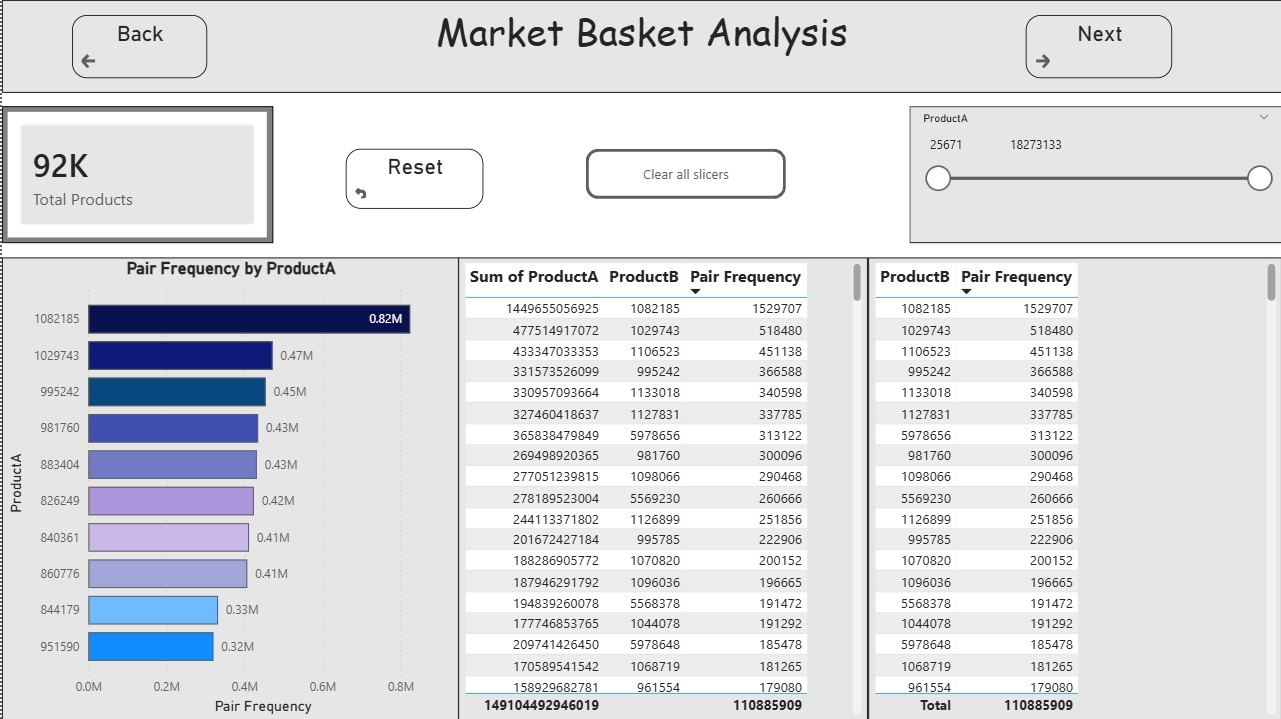

The dashboard page shown, as its layout file describes it:
{"tool":"powerbi","page":{"name":"Market Basket Analysis","canvas":[1280,720],"ordinal":10},"visuals":[{"type":"clusteredBarChart","fields":{"Category":["ProductPairs.ProductA"],"Y":["Transaction.Pair Frequency"]},"box":[0,257.8,456.7,462.6],"z":0},{"type":"tableEx","fields":{"Values":["Sum(ProductPairs.ProductA)","ProductPairs.ProductB","Transaction.Pair Frequency"]},"box":[456.7,257.8,409.6,462.6],"z":1000},{"type":"tableEx","fields":{"Values":["ProductPairs.ProductB","Transaction.Pair Frequency"]},"box":[866.3,257.8,414,462.6],"z":2000},{"type":"cardVisual","fields":{"Data":["Transaction.Total Products"]},"box":[0,106.1,271.1,137],"z":3000},{"type":"slicer","fields":{"Values":["ProductPairs.ProductA"]},"box":[907.6,106.1,372.7,137],"z":4000},{"type":"textbox","box":[0,0,1280.3,92.8],"z":5000},{"type":"actionButton","box":[584.3,148.9,200.3,50.1],"z":6000},{"type":"actionButton","title":"Next","box":[1023.3,15,146.7,63.3],"z":7000},{"type":"actionButton","title":"Back","box":[70,15,135,63.3],"z":8000},{"type":"actionButton","title":"Reset","box":[343.7,148.9,137.7,59.8],"z":8001}]}

Visuals, with their boxes in screenshot pixels (x1, y1, x2, y2), scaled from the page's 1280x720 canvas onto the 1281x719 screenshot:
clusteredBarChart - ProductPairs.ProductA x Transaction.Pair Frequency: 0/257/457/718
tableEx - Sum(ProductPairs.ProductA) x ProductPairs.ProductB: 457/257/867/718
tableEx - ProductPairs.ProductB x Transaction.Pair Frequency: 867/257/1280/718
cardVisual - Transaction.Total Products: 0/106/271/243
slicer - ProductPairs.ProductA: 908/106/1280/243
textbox: 0/0/1280/93
actionButton: 585/149/785/199
"Next" actionButton: 1024/15/1171/78
"Back" actionButton: 70/15/205/78
"Reset" actionButton: 344/149/482/208
